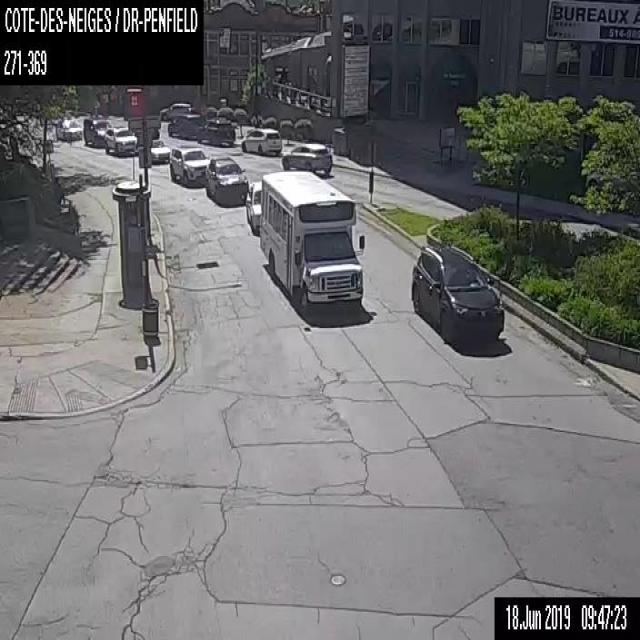bus: (258, 168, 364, 318)
vehicle: (409, 241, 506, 343), (205, 155, 248, 202), (168, 145, 210, 186), (281, 142, 332, 174), (240, 127, 281, 155), (197, 118, 235, 144), (104, 126, 138, 155), (166, 112, 202, 137), (83, 115, 111, 146), (245, 180, 261, 234), (159, 101, 194, 124), (56, 118, 82, 140), (149, 138, 171, 163)
